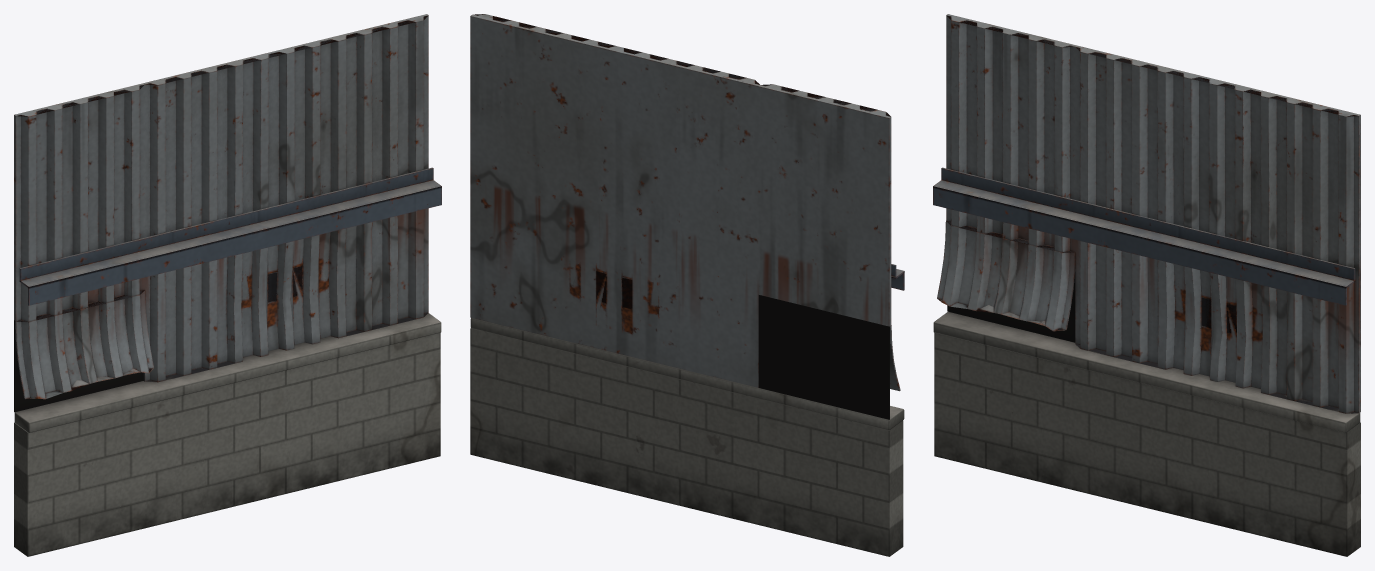
Rendered from wall_lower_damaged.fbx.
The picture shows the model from 3 angles, left to right: view 1: azimuth 30°, elevation 25°; view 2: azimuth 150°, elevation 25°; view 3: azimuth 330°, elevation 25°; orthographic projection.
Visible parts, largest first — view 1: Body; view 2: Body; view 3: Body.
Boxes of the visible parts, x1,y1,x2,y2 form: Body: [14, 14, 441, 556]; Body: [470, 14, 904, 556]; Body: [933, 14, 1360, 556].
Size of the model in its own units: 16 by 16 by 1.
Materials: 1 (1 with a texture image).
